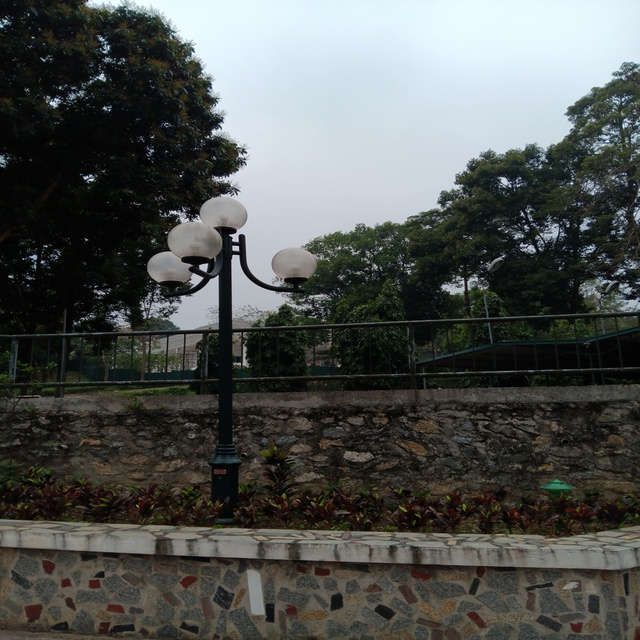cotden: (136, 191, 339, 514)
